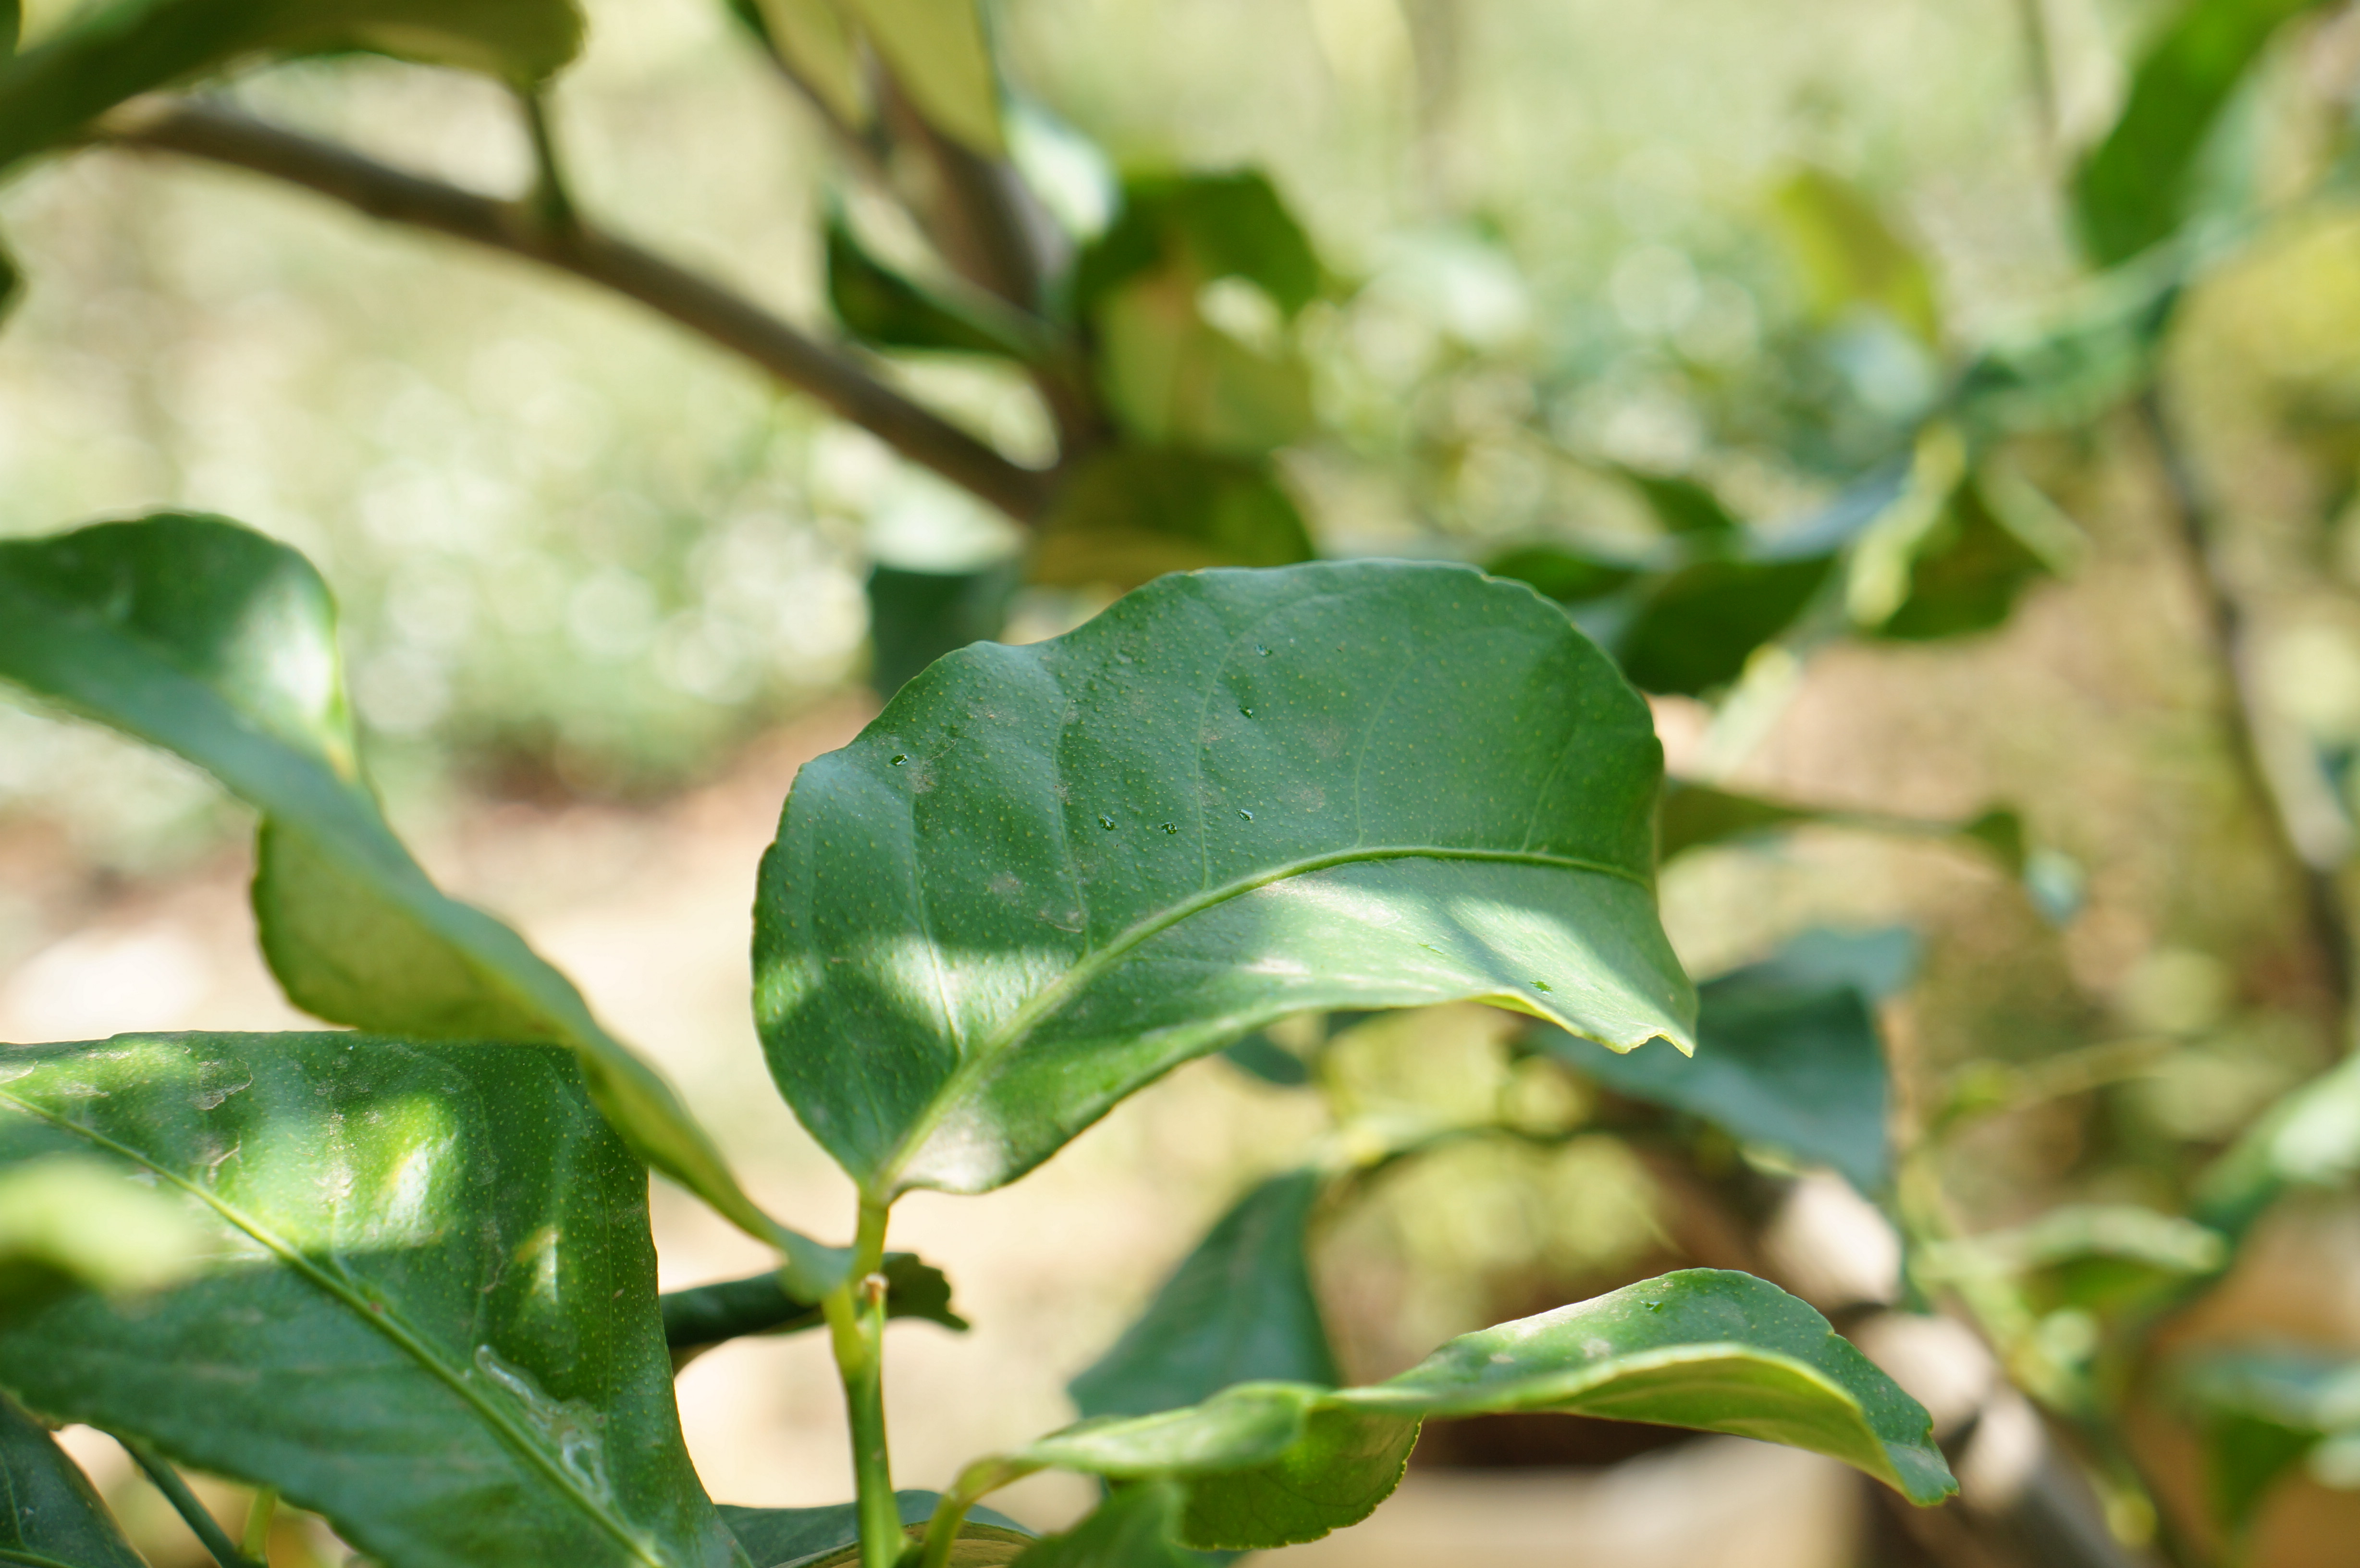damage: (462, 1330, 661, 1540)
